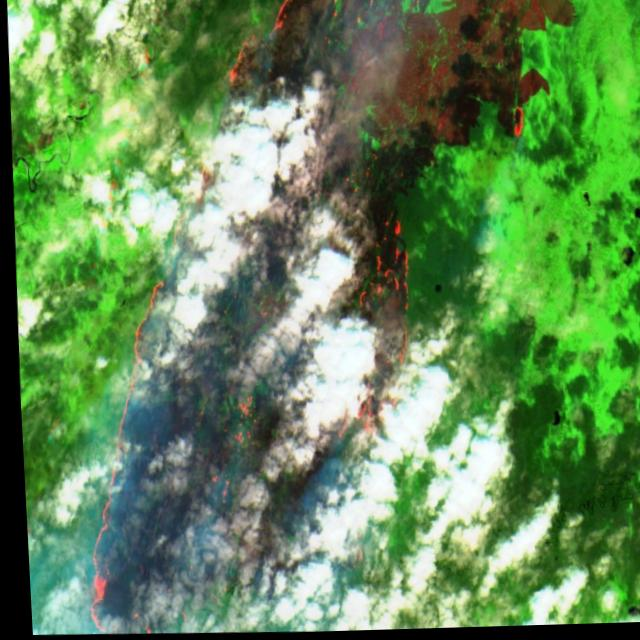fire: (51, 0, 432, 639), (488, 85, 538, 154)
